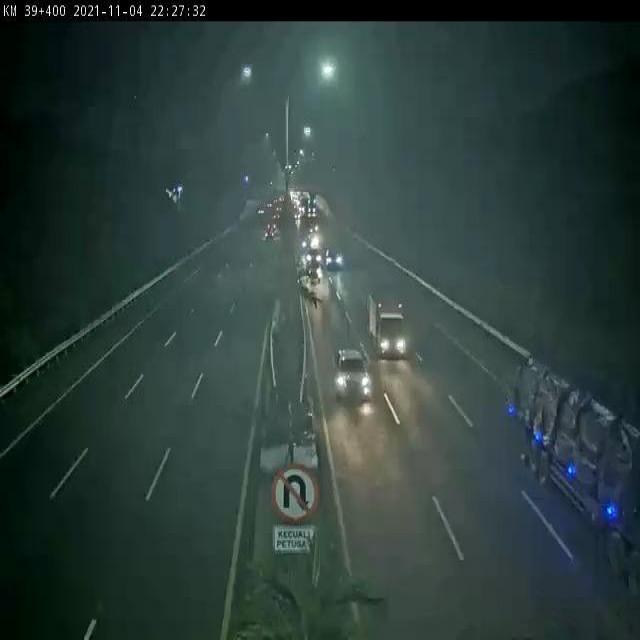car: (334, 348, 373, 405)
truck-s-: (369, 290, 408, 358)
truck-xl-: (509, 352, 640, 559)
